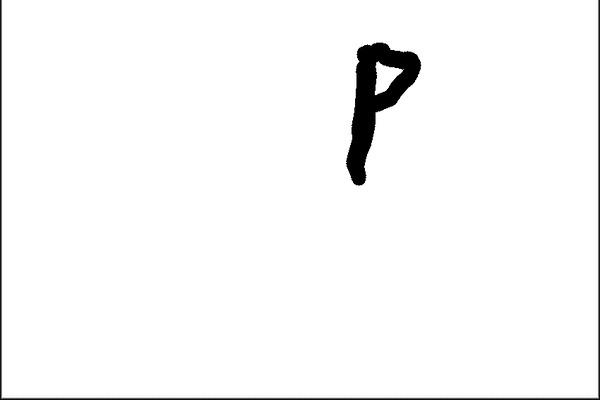P: (336, 34, 426, 190)
